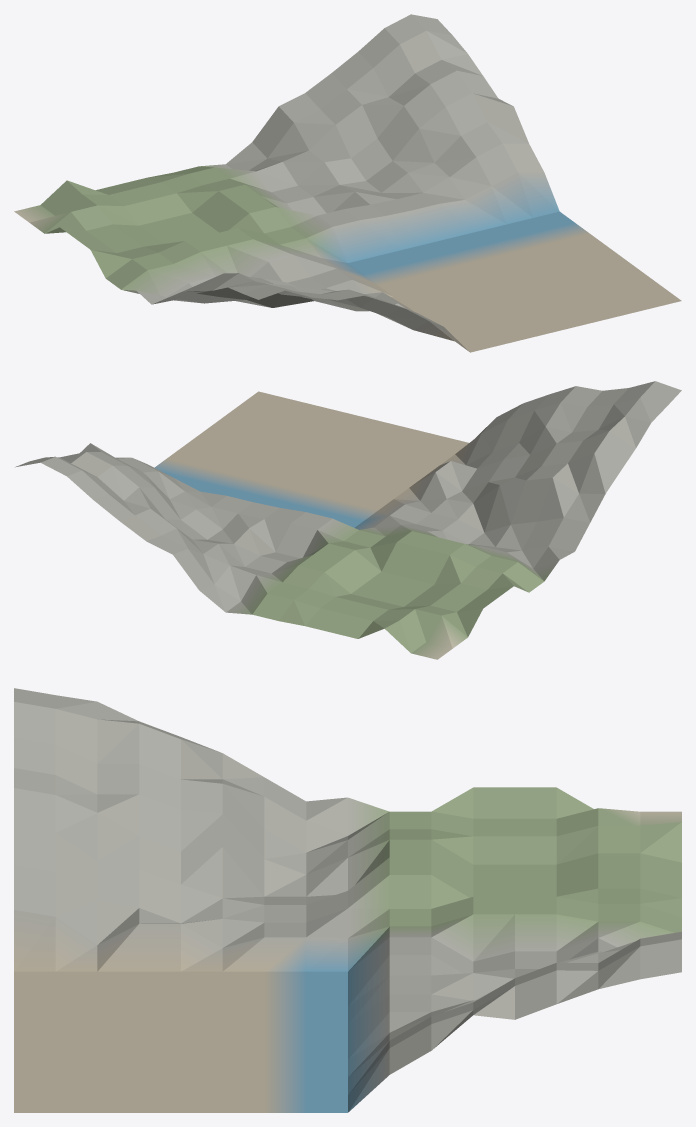
3 renders of one model, top to bottom at view 1: azimuth 30°, elevation 25°; view 2: azimuth 150°, elevation 25°; view 3: azimuth 270°, elevation 25°, orthographic. The views are drawn at different scales.
Size of the model in its own units: 32 by 8.24 by 32.
